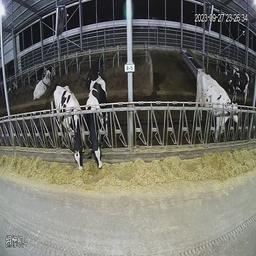cow: (52, 84, 85, 170), (202, 74, 243, 140), (87, 77, 109, 174), (226, 70, 245, 105), (32, 70, 53, 99), (86, 58, 103, 90)
